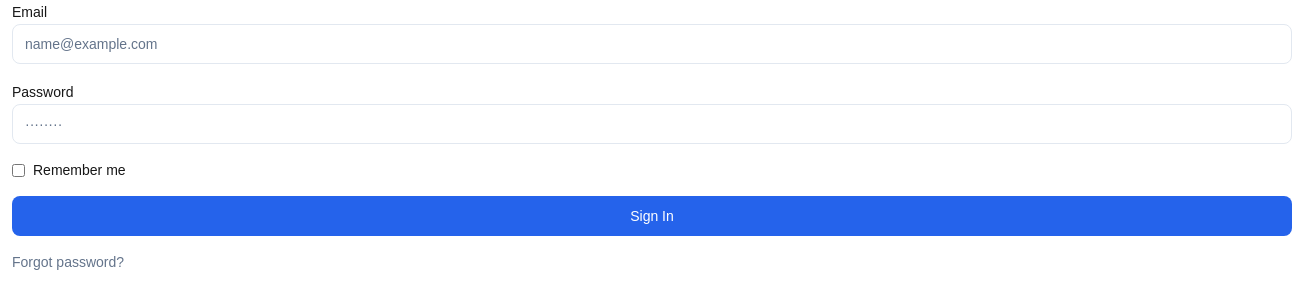
Test case: Login component › shows loading indicator and disables fields while submitting
This screenshot has width=1304, height=287.
Click the button "Sign In" at (652, 216), box top-left (12, 196), bottom-right (1292, 236)
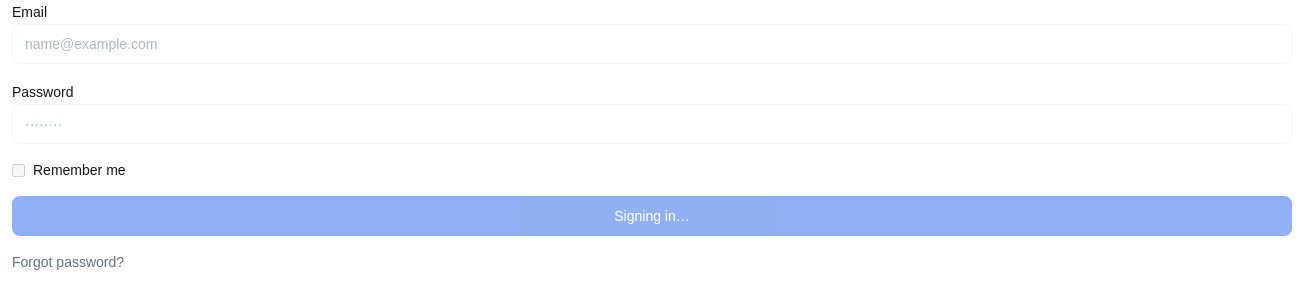
Check: the password field with placeholder "········" is disabled, box top-left (12, 104), bottom-right (1292, 144)
Check: the button "Signing in…" is disabled, box top-left (12, 196), bottom-right (1292, 236)
